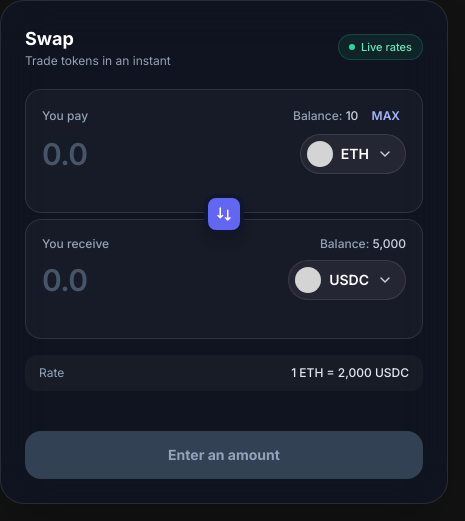
Scenario: SwapForm › flips the two tokens when the swap-direction button is clicked
Click the button named "Swap direction".
click(224, 214)  # box [204,194,244,234]
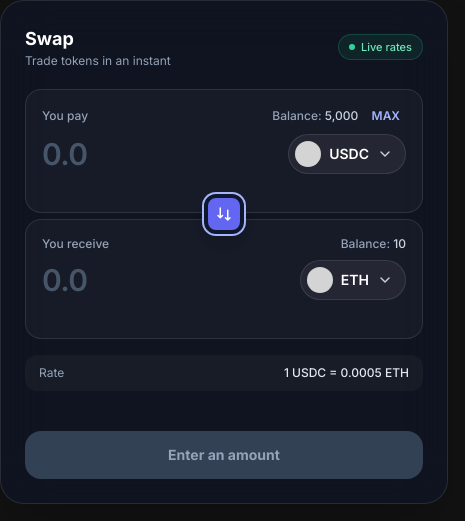
Check: the button with aria-label "You pay token: USDC" is shown, box [288,134,406,174]
Check: the button with aria-label "You receive token: ETH" is shown, box [300,260,406,300]
